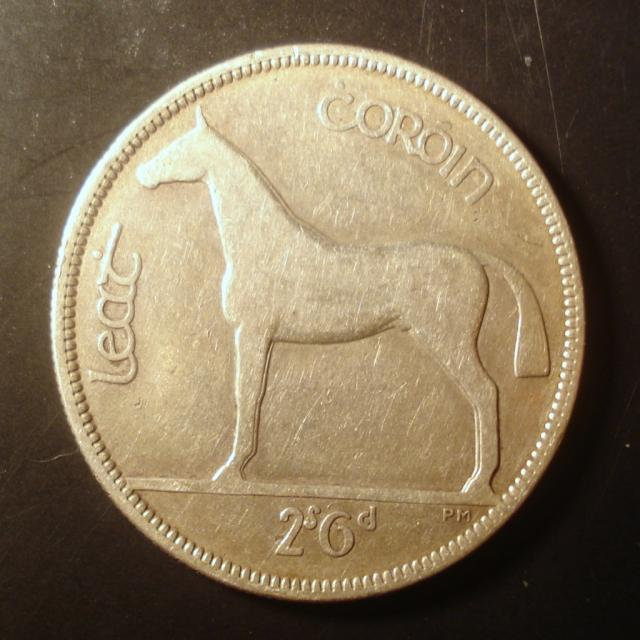Coin: (46, 42, 588, 603)
